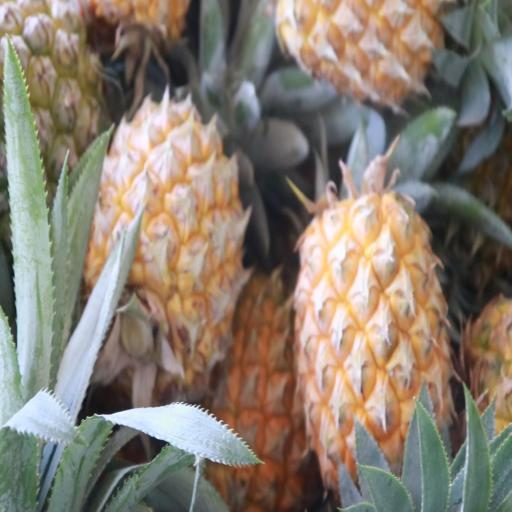Pineapple - v8 v1: (301, 203, 452, 512), (92, 98, 244, 387), (206, 276, 319, 512)
